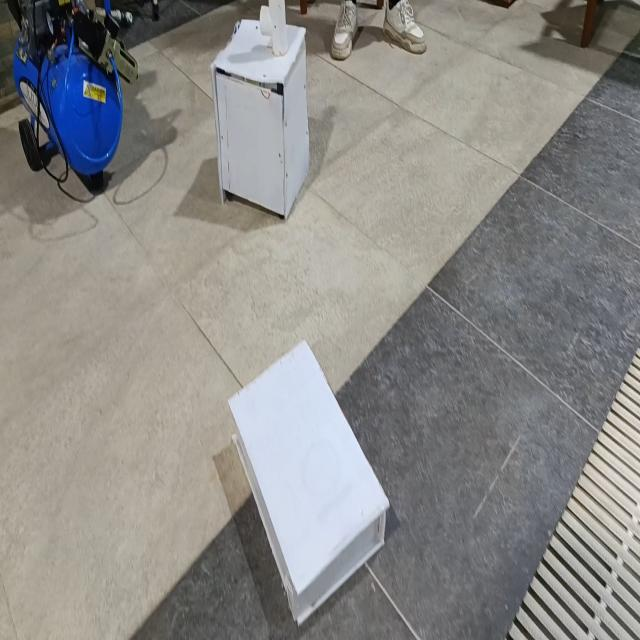Cube: (210, 12, 310, 220)
Cuboid: (226, 337, 391, 627)
